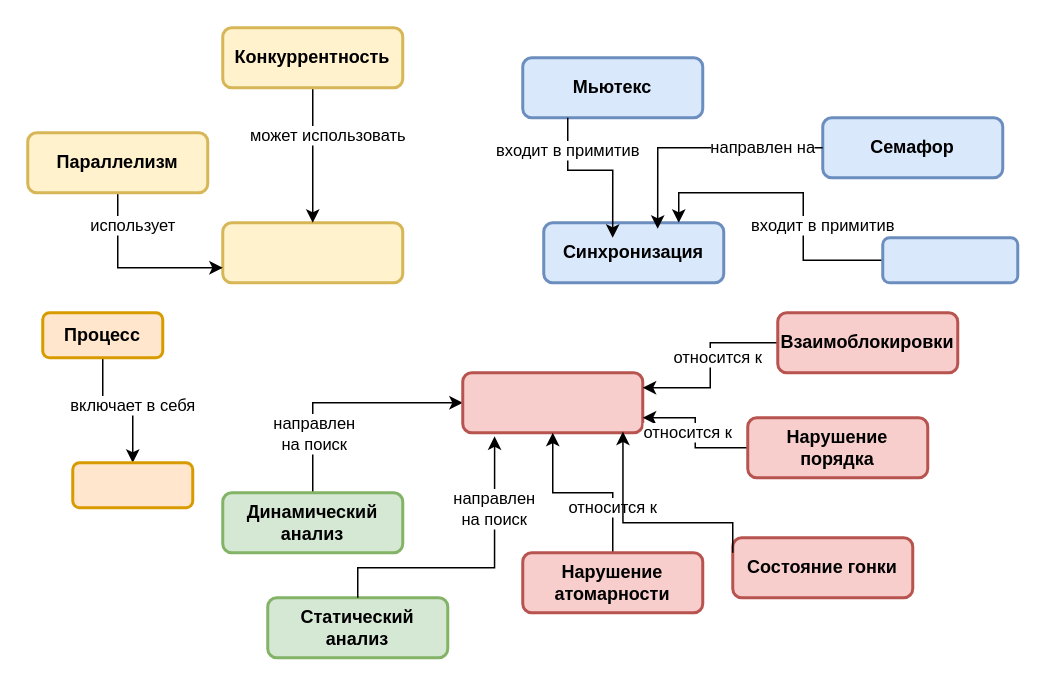
This 1044x684 diagram has some shape labels left out. The box of each missing label's shape, as (x1, y1, x2, y2) in pixels:
Многопоточность: (220, 220, 404, 284)
Монитор: (880, 236, 1018, 284)
Ошибки Гейзенбага: (460, 370, 644, 434)
Поток: (70, 460, 194, 508)
